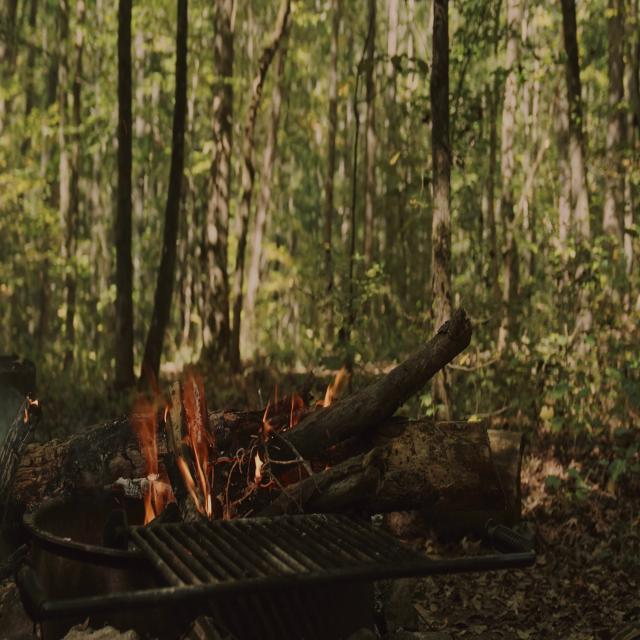Fire: (136, 375, 213, 525)
